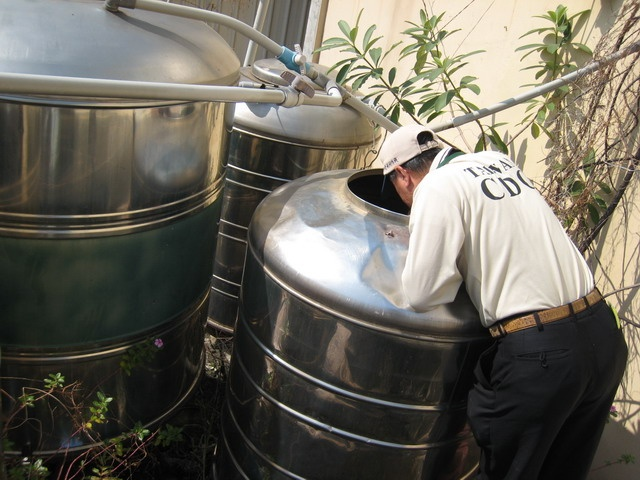water_tower: (1, 1, 243, 457)
